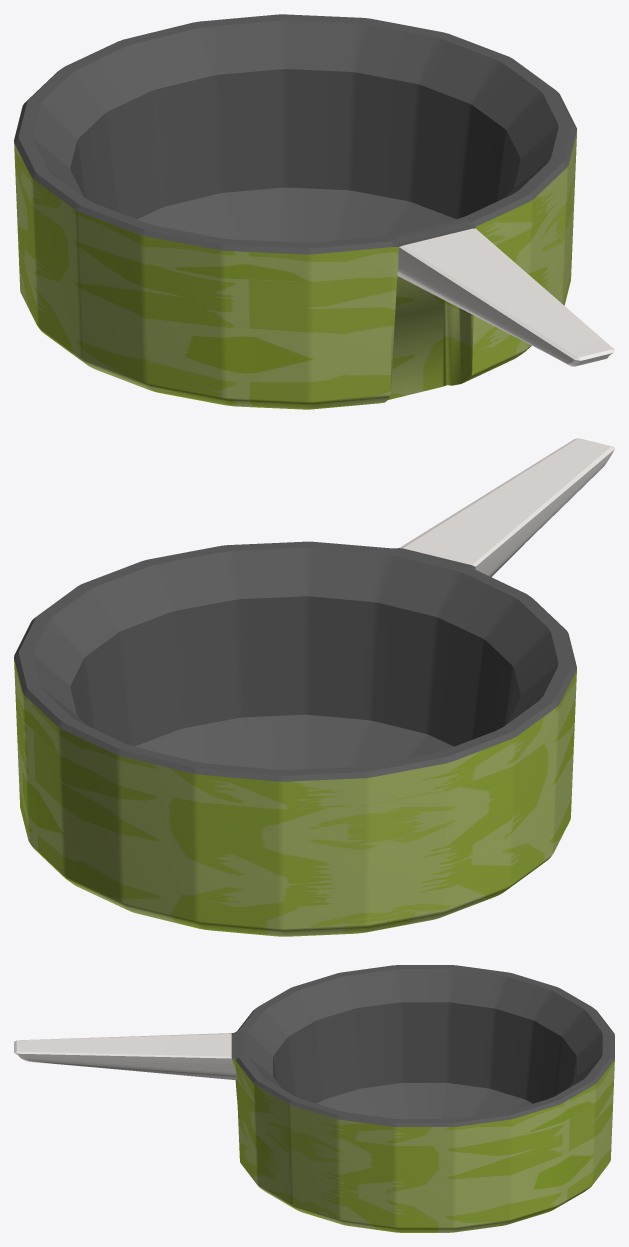
Rendered from pot.fbx.
3 renders of one model, top to bottom at view 1: azimuth 30°, elevation 25°; view 2: azimuth 150°, elevation 25°; view 3: azimuth 270°, elevation 25°, orthographic. The views are drawn at different scales.
Parts seen in each view (by area): view 1: pCylinder12; view 2: pCylinder12; view 3: pCylinder12.
Part boxes in pixels (x1,y1,x2,y2): pCylinder12: (14, 14, 614, 409); pCylinder12: (14, 438, 614, 936); pCylinder12: (14, 965, 614, 1232).
Size of the model in its own units: 3.98 by 1.45 by 6.3.
